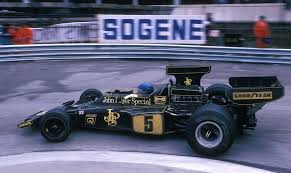FormulaOneCar: (15, 63, 284, 158)
